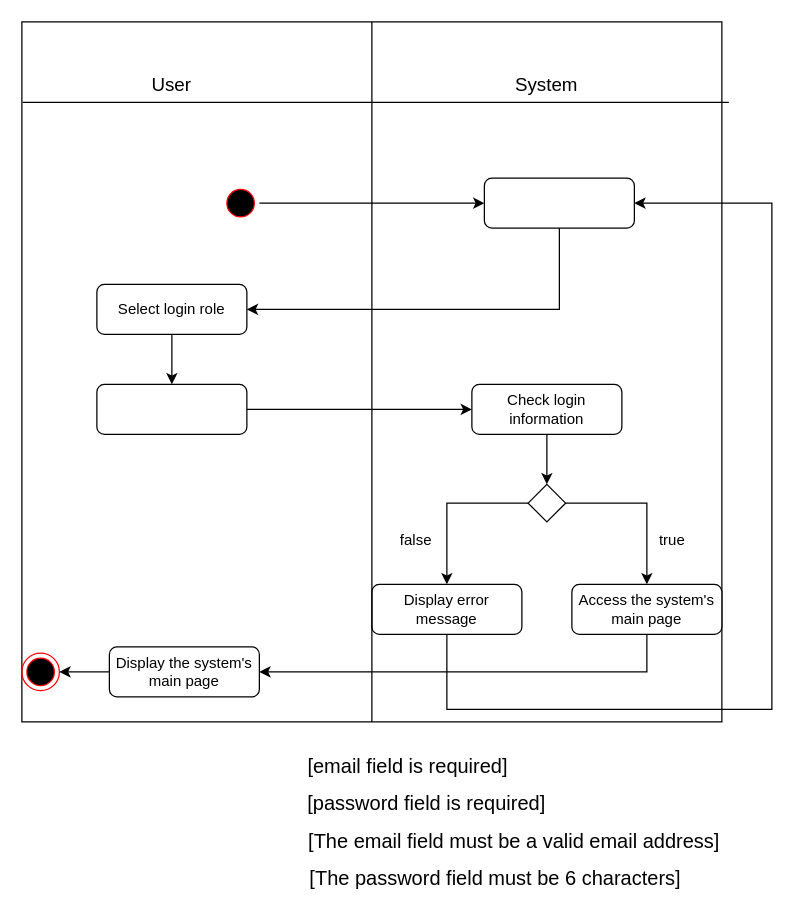
Image size: 804x919. Some labels were removed from this diagram. The centre of each missing label's shape, as x and y in pixels:
"Display the login screen" belongs at pixel 558 202.
"Enter login information" belongs at pixel 171 408.
